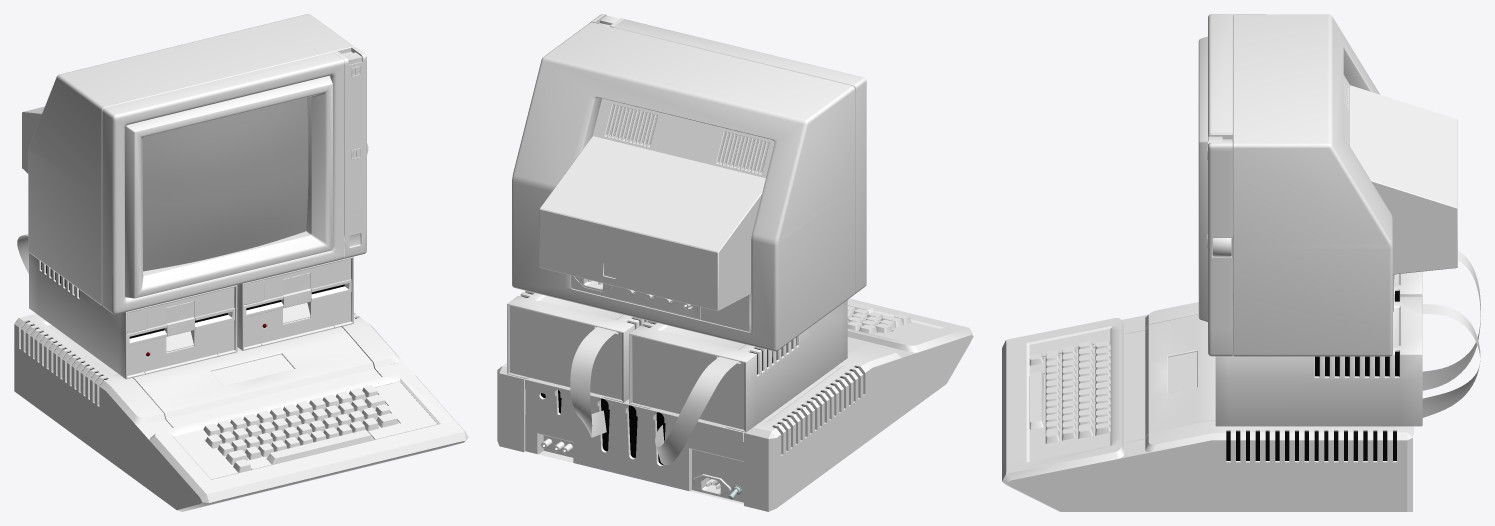
Rendered from computer.gltf.
3 renders of one model, left to right at view 1: azimuth 30°, elevation 25°; view 2: azimuth 150°, elevation 25°; view 3: azimuth 270°, elevation 25°, orthographic. The views are drawn at different scales.
Parts seen in each view (by area): view 1: Cube.027; view 2: Cube.027; view 3: Cube.027.
Boxes of the visible parts, x1,y1,x2,y2 form: Cube.027: [14, 14, 468, 511]; Cube.027: [497, 14, 973, 511]; Cube.027: [1002, 14, 1480, 511].
Size of the model in its own units: 1.56 by 1.92 by 2.28.
Materials: 13 (10 with a texture image).
